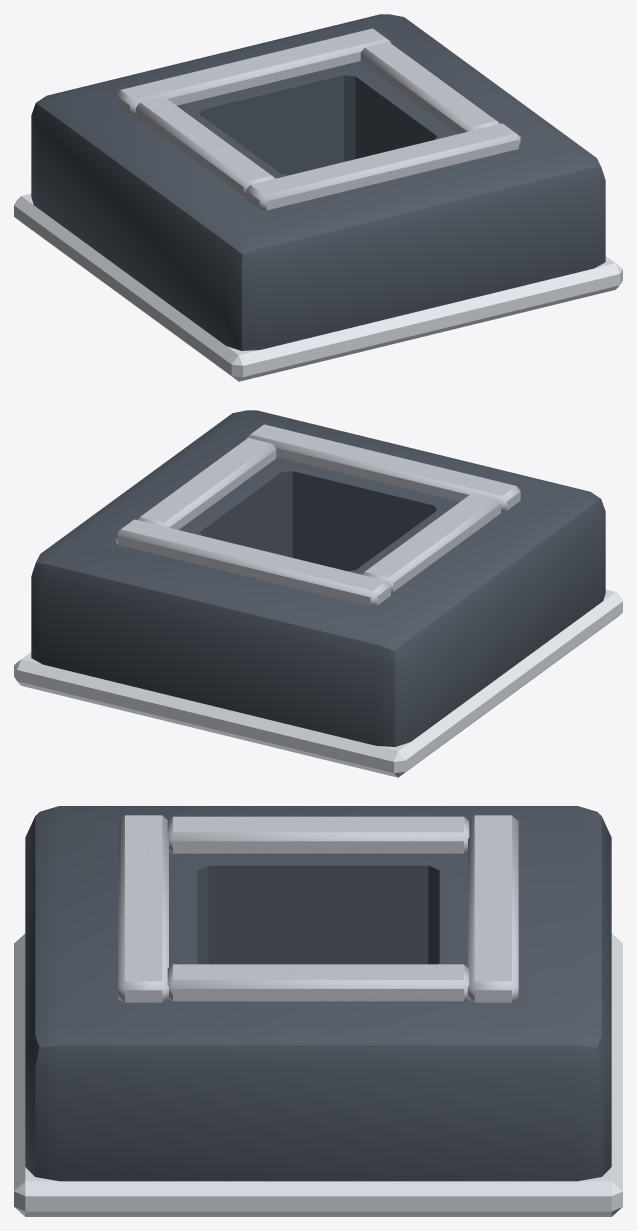
The model's file is cuvette_holder.glb.
The picture shows the model from 3 angles, top to bottom: view 1: azimuth 30°, elevation 25°; view 2: azimuth 150°, elevation 25°; view 3: azimuth 270°, elevation 25°; orthographic projection. The views are drawn at different scales.
Parts seen in each view (by area): view 1: HolderBody, HolderTrim, DetailV3_HolderCollar_S, DetailV3_HolderCollar_N, DetailV3_HolderCollar_W, DetailV3_HolderCollar_E; view 2: HolderBody, HolderTrim, DetailV3_HolderCollar_N, DetailV3_HolderCollar_S, DetailV3_HolderCollar_W, DetailV3_HolderCollar_E; view 3: HolderBody, HolderTrim, DetailV3_HolderCollar_E, DetailV3_HolderCollar_W, DetailV3_HolderCollar_N, DetailV3_HolderCollar_S.
Part boxes in pixels (x1=…): HolderBody: x1=31, y1=14, x2=605, y2=350; HolderTrim: x1=14, y1=193, x2=622, y2=381; DetailV3_HolderCollar_S: x1=246, y1=123, x2=520, y2=210; DetailV3_HolderCollar_N: x1=116, y1=28, x2=390, y2=115; DetailV3_HolderCollar_W: x1=136, y1=96, x2=275, y2=196; DetailV3_HolderCollar_E: x1=360, y1=42, x2=499, y2=133; HolderBody: x1=31, y1=410, x2=605, y2=746; HolderTrim: x1=14, y1=589, x2=622, y2=777; DetailV3_HolderCollar_N: x1=116, y1=519, x2=390, y2=606; DetailV3_HolderCollar_S: x1=246, y1=424, x2=520, y2=511; DetailV3_HolderCollar_W: x1=361, y1=492, x2=500, y2=592; DetailV3_HolderCollar_E: x1=137, y1=438, x2=276, y2=529; HolderBody: x1=25, y1=806, x2=611, y2=1181; HolderTrim: x1=14, y1=933, x2=622, y2=1216; DetailV3_HolderCollar_E: x1=167, y1=964, x2=469, y2=1001; DetailV3_HolderCollar_W: x1=167, y1=816, x2=469, y2=853; DetailV3_HolderCollar_N: x1=468, y1=815, x2=518, y2=1002; DetailV3_HolderCollar_S: x1=118, y1=815, x2=168, y2=1002.
Bounding box in the file's own units: 0.054 × 0.0198 × 0.054.
Materials: 4 (1 with a texture image).
